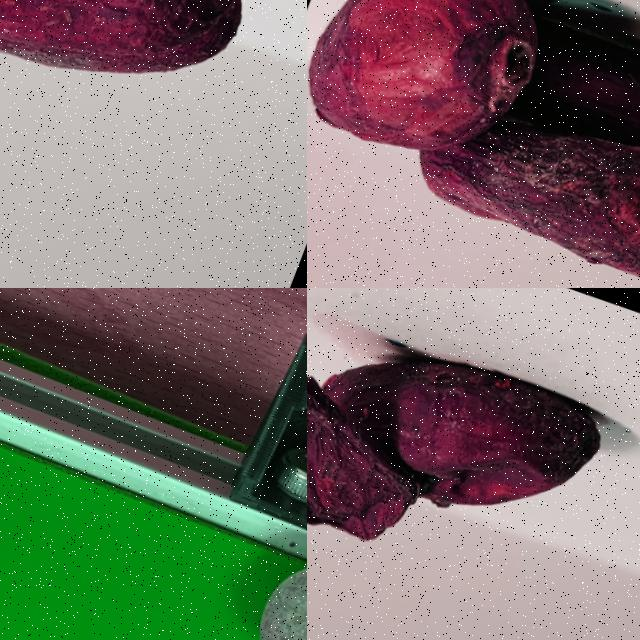Agglomerated_cocoabeans: (307, 288, 634, 625), (307, 0, 639, 287), (0, 0, 306, 213), (125, 479, 306, 639)
